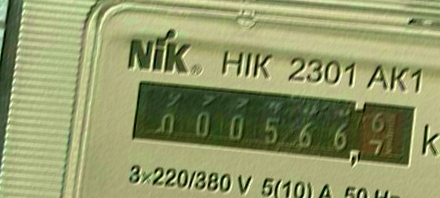0: (224, 113, 245, 143), (190, 109, 210, 139), (155, 110, 176, 135)
5: (259, 116, 279, 147)
6: (328, 120, 349, 153), (292, 120, 313, 150), (367, 111, 385, 137)
7: (364, 139, 382, 158)
9: (161, 89, 181, 110)
screen: (120, 74, 419, 176)
